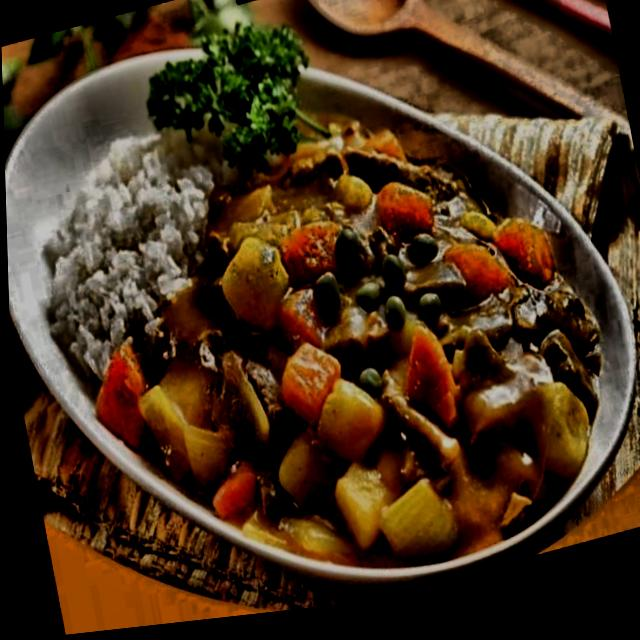Food: (62, 65, 628, 635), (43, 152, 206, 310)
